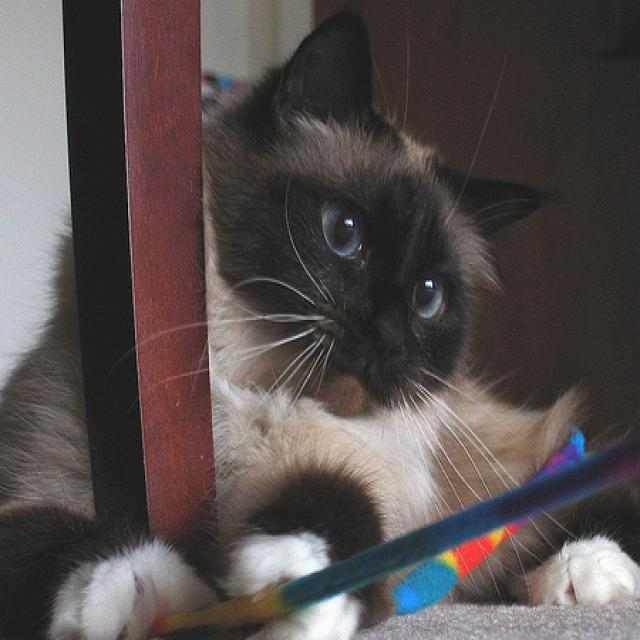Birman: (0, 6, 640, 634)
